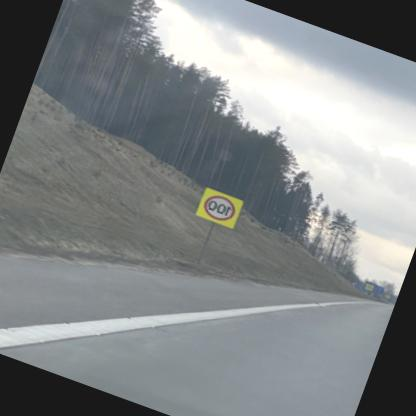speedlimit: (202, 192, 240, 224)
